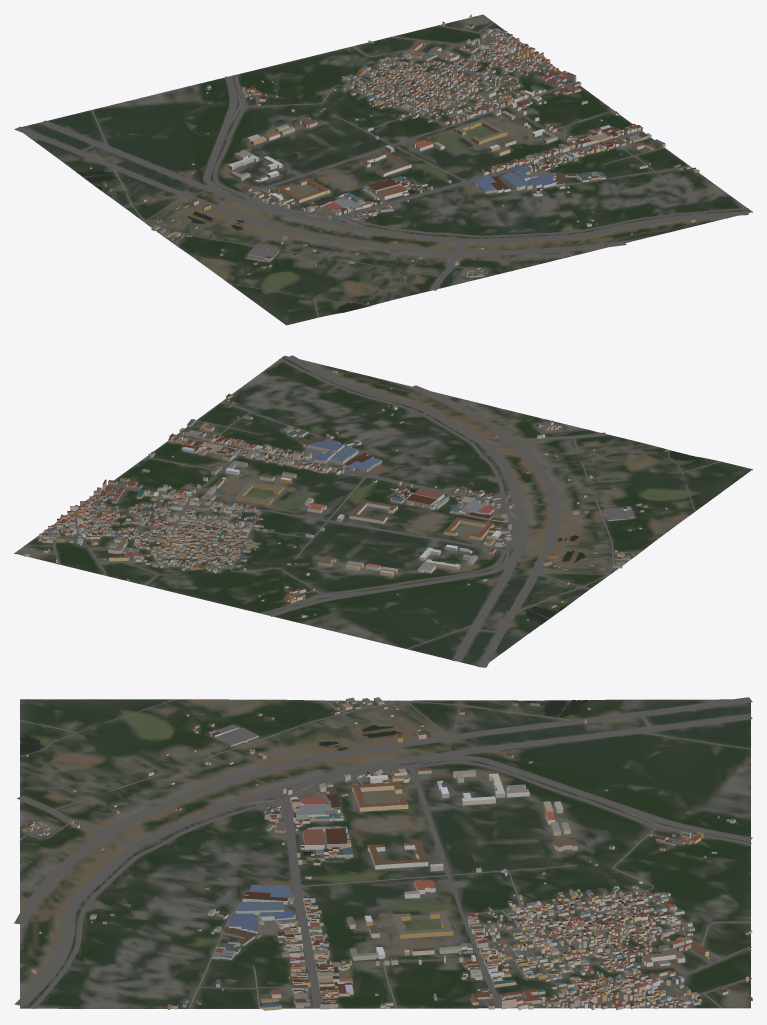
3 views of the same model, one above another, from view 1: azimuth 30°, elevation 25°; view 2: azimuth 150°, elevation 25°; view 3: azimuth 270°, elevation 25° (orthographic). The views are drawn at different scales.
Parts seen in each view (by area): view 1: ground, buildings, roads, water; view 2: ground, buildings, roads, water; view 3: ground, buildings, roads, water.
Boxes of the visible parts, bbox=[...] form: ground: bbox=[22, 14, 752, 325]; buildings: bbox=[90, 14, 699, 304]; roads: bbox=[14, 22, 748, 317]; water: bbox=[77, 163, 635, 312]; ground: bbox=[14, 355, 752, 667]; buildings: bbox=[24, 371, 667, 620]; roads: bbox=[25, 355, 720, 667]; water: bbox=[243, 423, 696, 623]; ground: bbox=[20, 699, 750, 1008]; buildings: bbox=[22, 697, 752, 1010]; roads: bbox=[14, 697, 752, 1008]; water: bbox=[20, 700, 588, 983].
Size of the model in its own units: 1419 by 24.12 by 1417.
